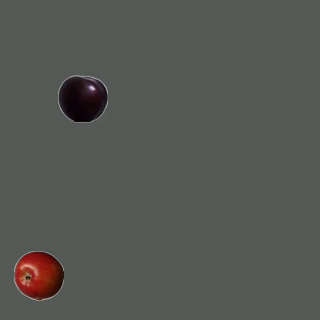Apple Braeburn: (13, 250, 63, 300)
Cherry Wax Black: (57, 73, 107, 123)
